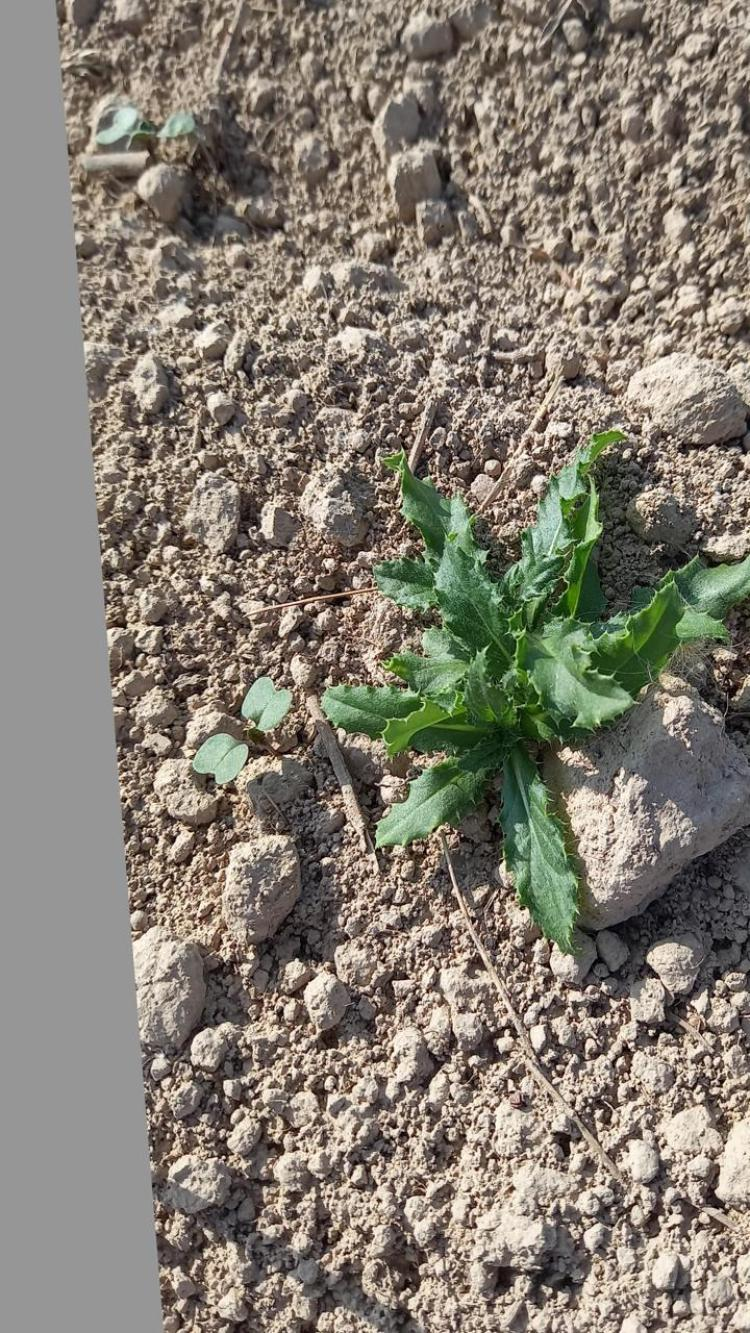bodyak: (321, 429, 750, 952)
